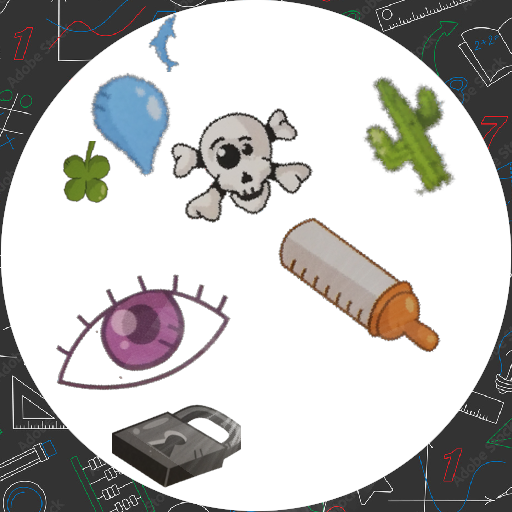bottle_icon: (263, 193, 457, 387)
cactus_icon: (342, 71, 475, 204)
cloverleaf_icon: (58, 141, 126, 209)
dolphin_icon: (138, 14, 196, 72)
eye_icon: (47, 245, 235, 433)
lock_icon: (112, 377, 241, 506)
raindrop_icon: (80, 72, 185, 177)
skull_icon: (164, 83, 321, 240)
